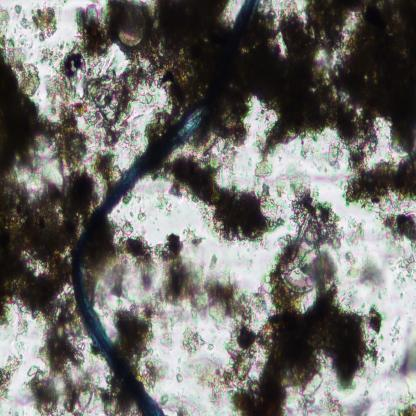Background material: (258, 0, 416, 154), (196, 297, 386, 414), (0, 37, 73, 328), (153, 229, 255, 327), (158, 164, 282, 244), (46, 6, 108, 108), (84, 64, 155, 146), (94, 216, 156, 304), (26, 318, 79, 415), (288, 177, 344, 251), (342, 152, 416, 206), (109, 302, 156, 368), (214, 87, 257, 150), (63, 166, 99, 227), (344, 251, 387, 291), (379, 204, 416, 247), (98, 373, 133, 414), (389, 330, 416, 381), (20, 8, 58, 40), (0, 353, 24, 403), (179, 323, 214, 356), (391, 251, 416, 292), (141, 354, 168, 387), (38, 38, 67, 67), (76, 376, 96, 413), (387, 392, 416, 416), (160, 394, 193, 414), (252, 158, 275, 180), (348, 219, 366, 247), (326, 139, 342, 167), (159, 329, 174, 354), (133, 209, 152, 224), (0, 7, 12, 30), (176, 356, 184, 385), (209, 254, 218, 270), (13, 2, 23, 16)
Cotton: (71, 0, 259, 415)
Diatom: (277, 236, 323, 294), (115, 2, 150, 50)
